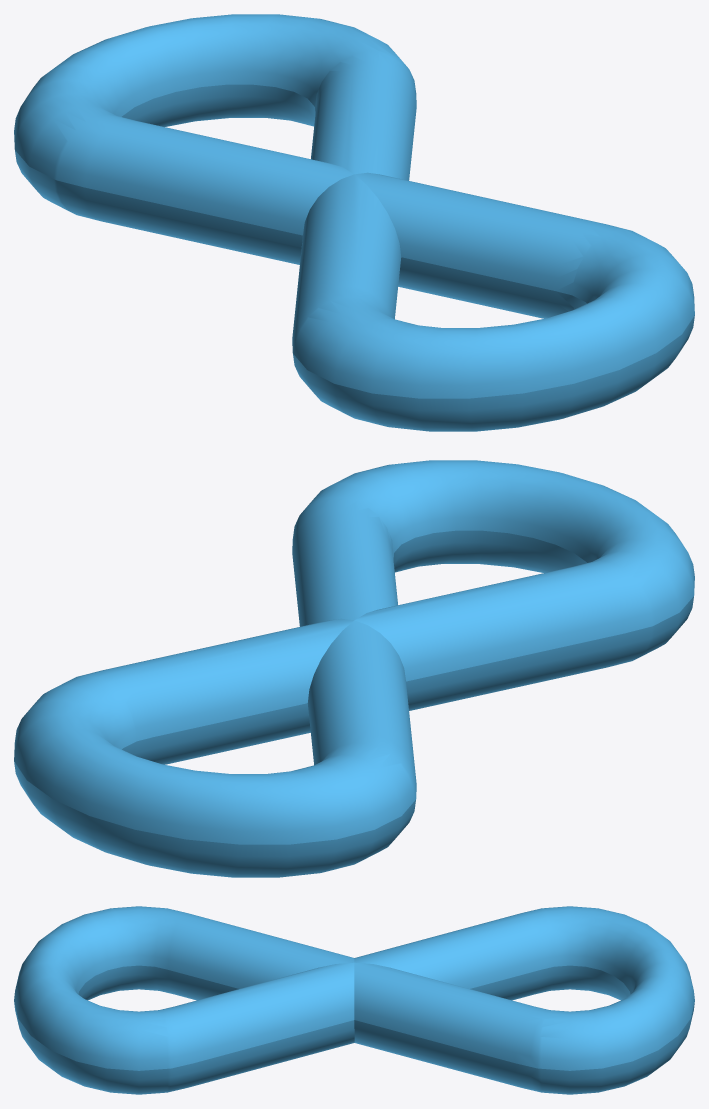
The model's file is lemniscata.glb.
The picture shows the model from 3 angles, top to bottom: view 1: azimuth 30°, elevation 25°; view 2: azimuth 150°, elevation 25°; view 3: azimuth 270°, elevation 25°; orthographic projection. The views are drawn at different scales.
Visible parts, largest first — view 1: root.001; view 2: root.001; view 3: root.001.
Boxes of the visible parts, left/top/right/bottom form: root.001: left=14, top=14, right=694, bottom=431; root.001: left=14, top=460, right=694, bottom=877; root.001: left=14, top=906, right=694, bottom=1094.
Size of the model in its own units: 3 by 0.75 by 6.13.
